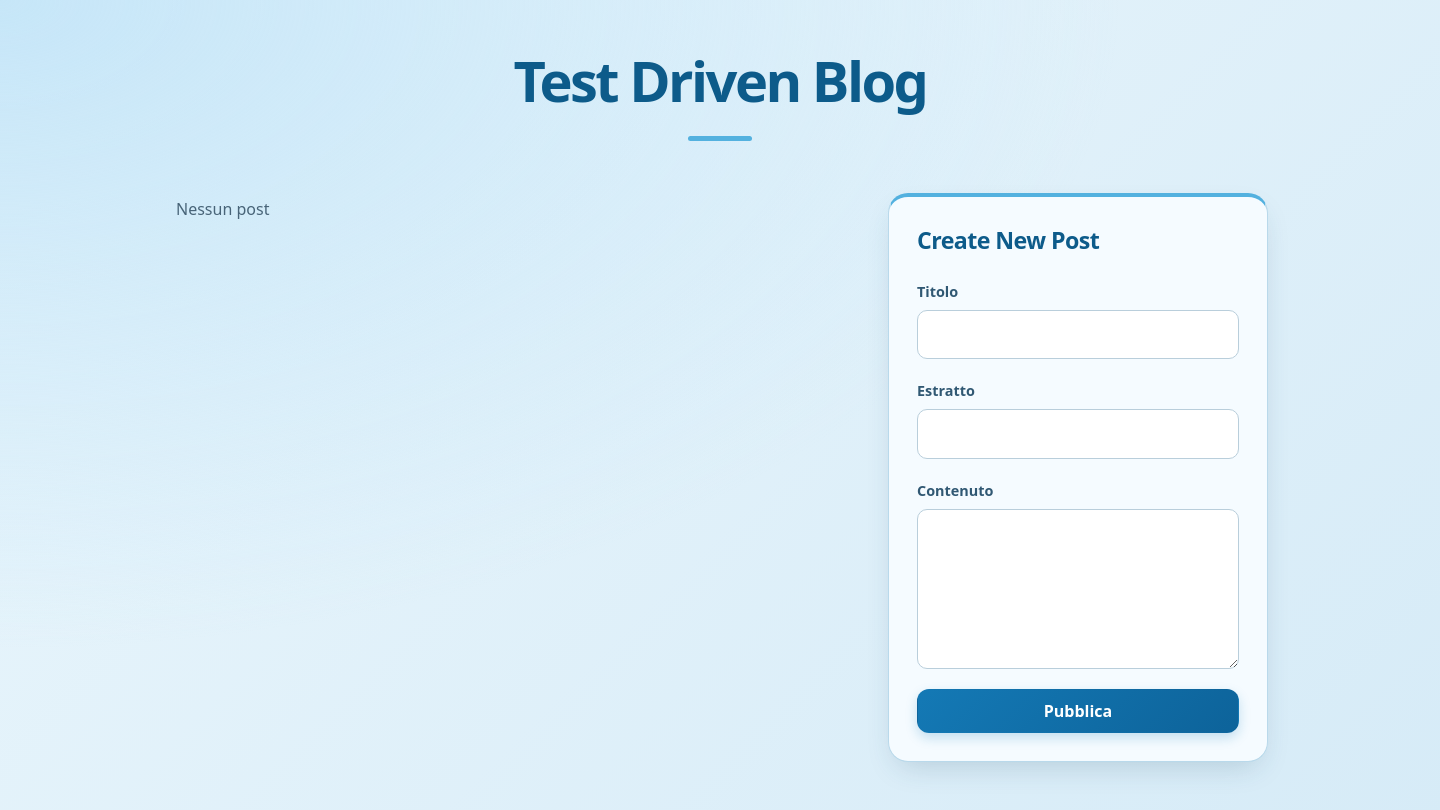
Scenario: App › Mostra un nuovo post dopo averlo pubblicato dal form
The image size is (1440, 810).
Type "Nuovo post" into the field labelled "Titolo".
click(1078, 334); type("Nuovo post")  # box x1=917 y1=310 x2=1239 y2=359
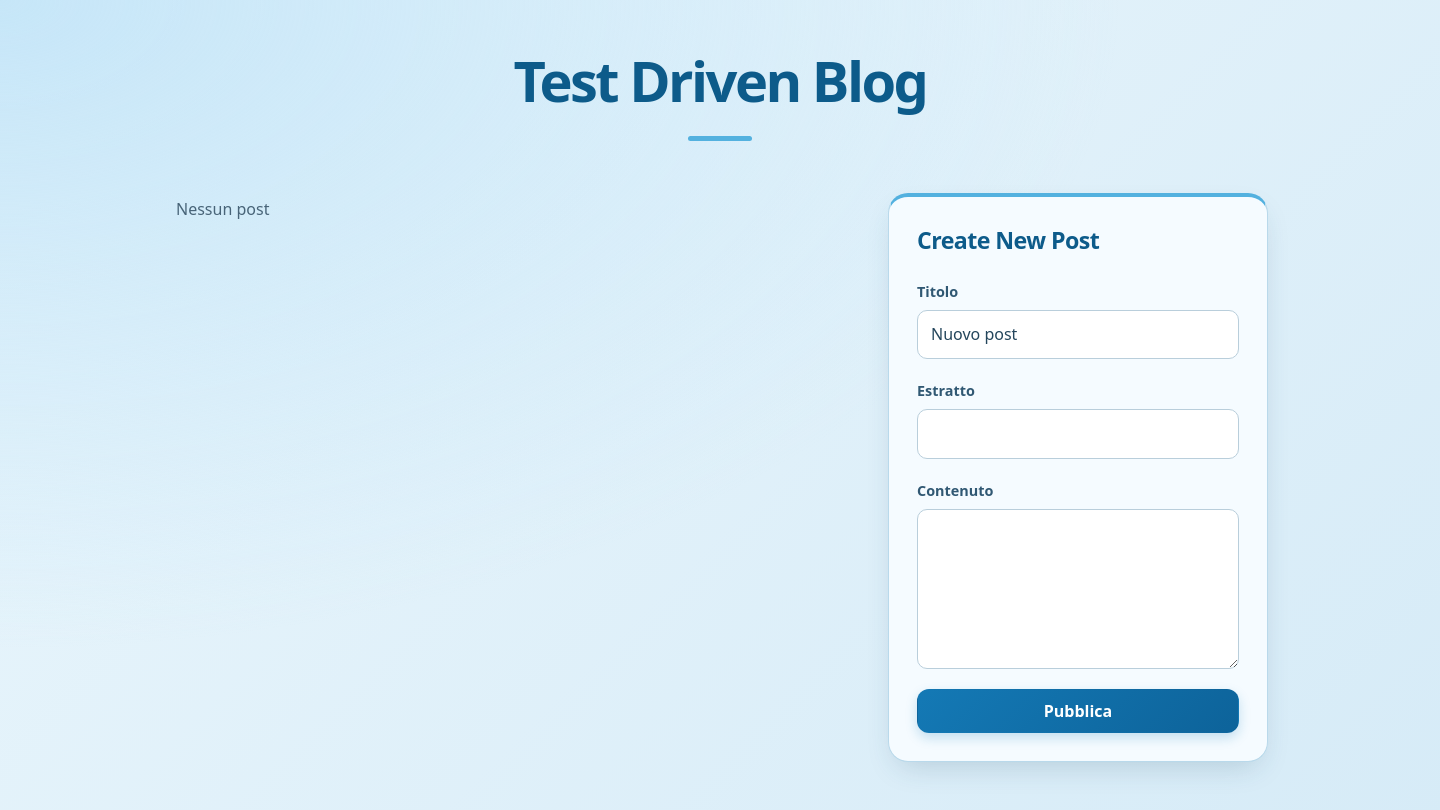
Type "Un estratto" into the field labelled "Estratto".
click(1078, 434); type("Un estratto")  # box x1=917 y1=409 x2=1239 y2=459
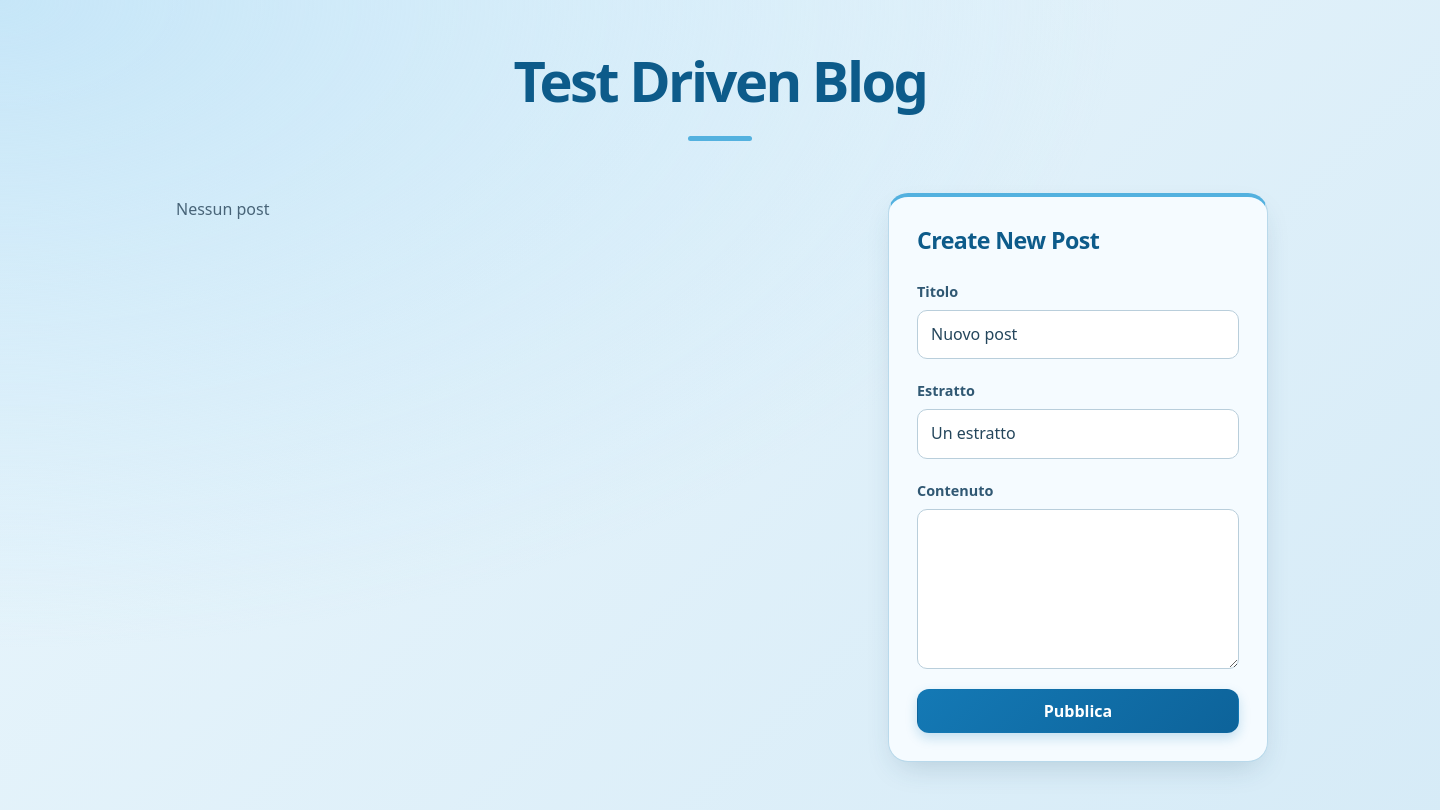
Type "Un contenuto" into the text box labelled "Contenuto".
click(1078, 589); type("Un contenuto")  # box x1=917 y1=509 x2=1239 y2=669
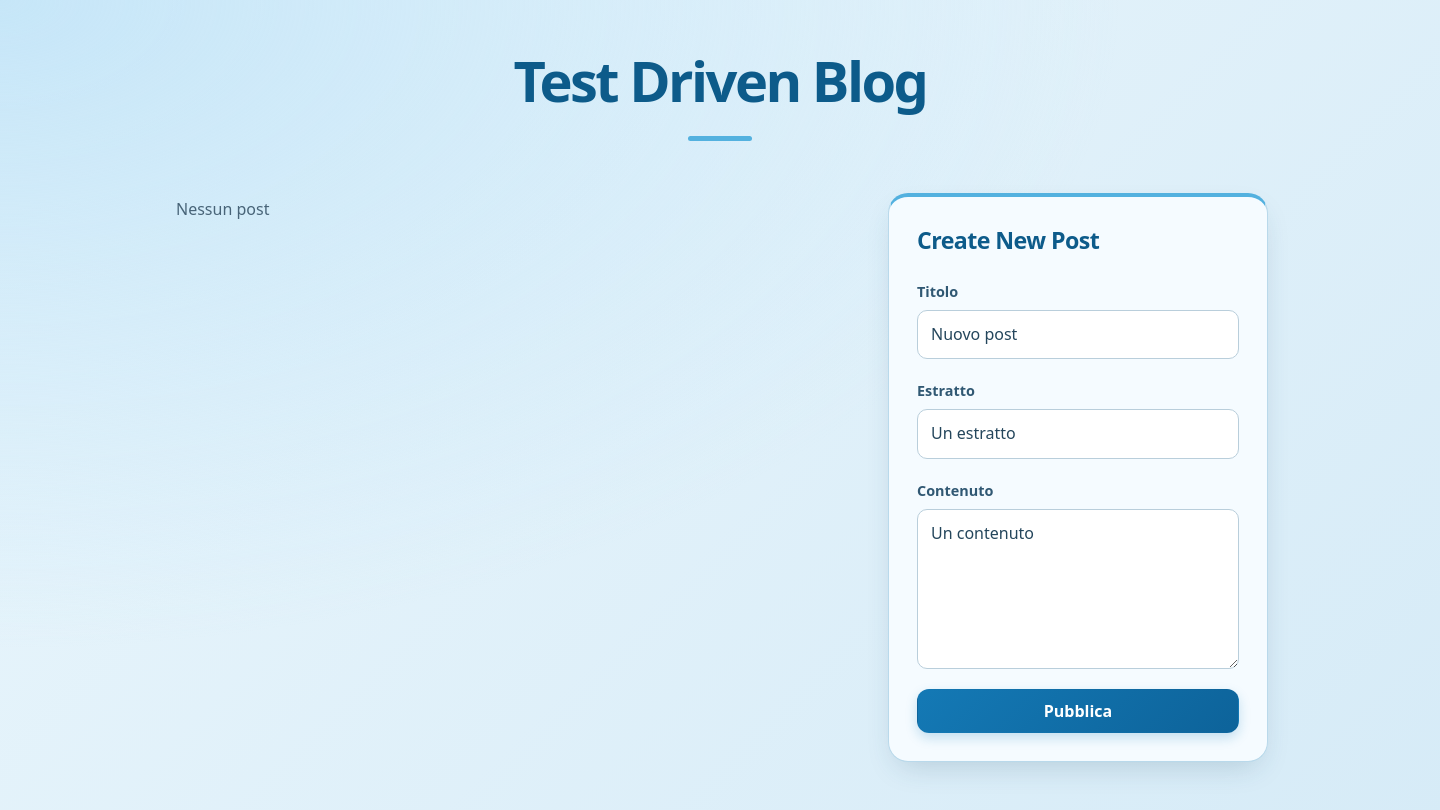
Click the button "Pubblica".
click(1078, 711)  # box x1=917 y1=689 x2=1239 y2=733
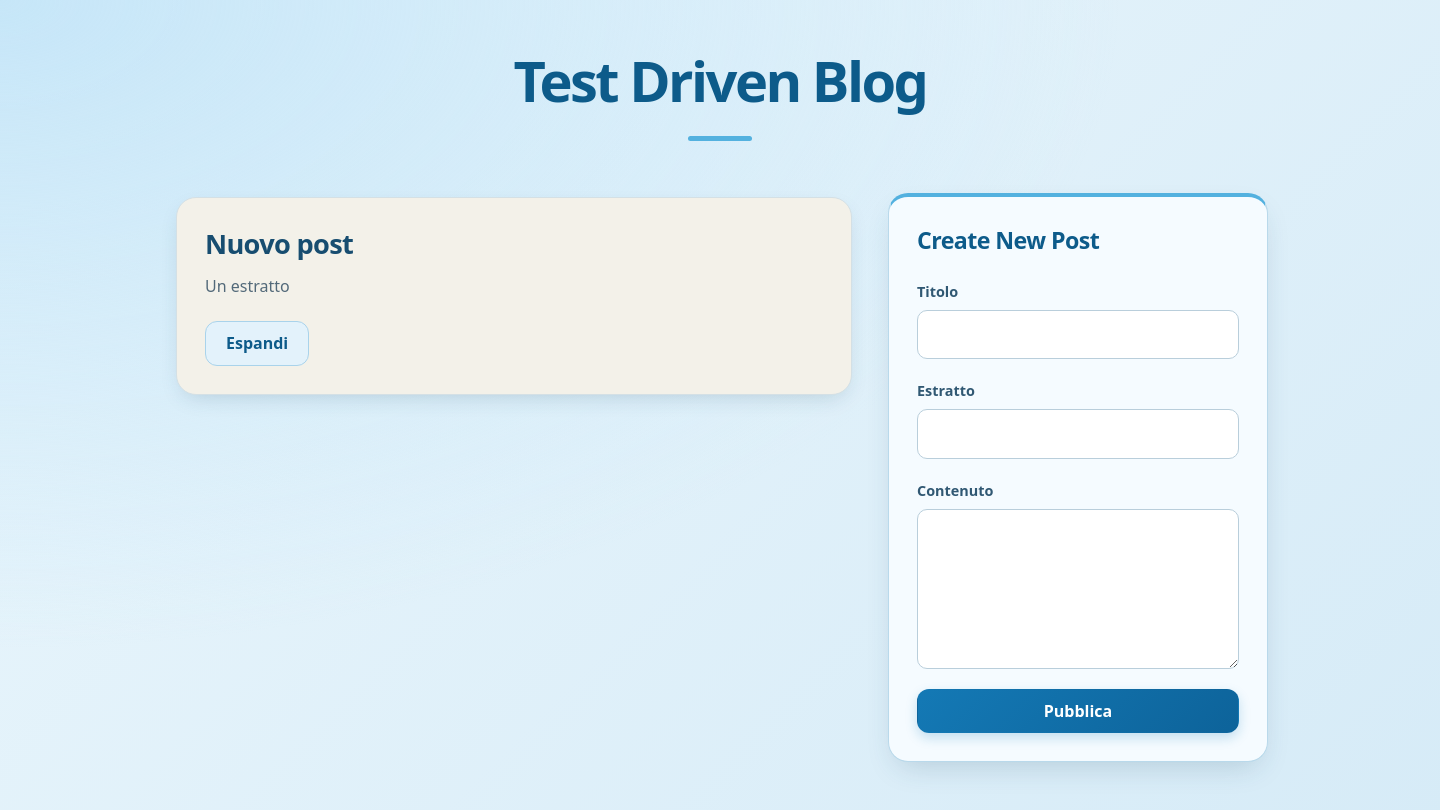
Expected: the heading "Nuovo post" is shown, x1=205 y1=225 x2=353 y2=262
